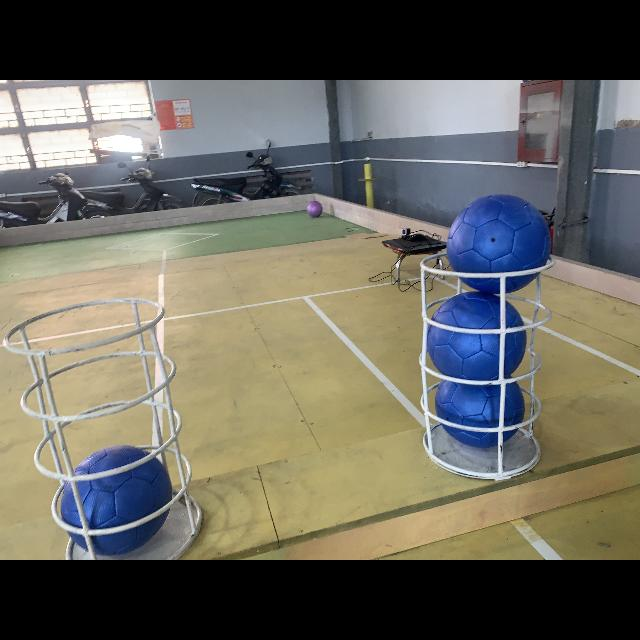B: (61, 446, 173, 556), (445, 194, 551, 294), (428, 290, 526, 380), (436, 376, 526, 448)
